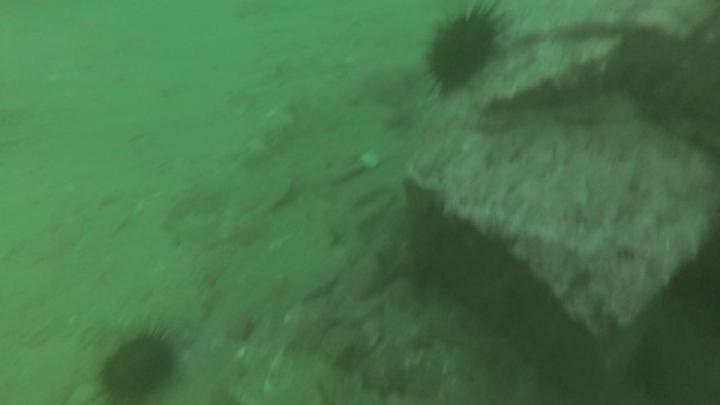echinus: (422, 4, 506, 100), (99, 324, 180, 405)
